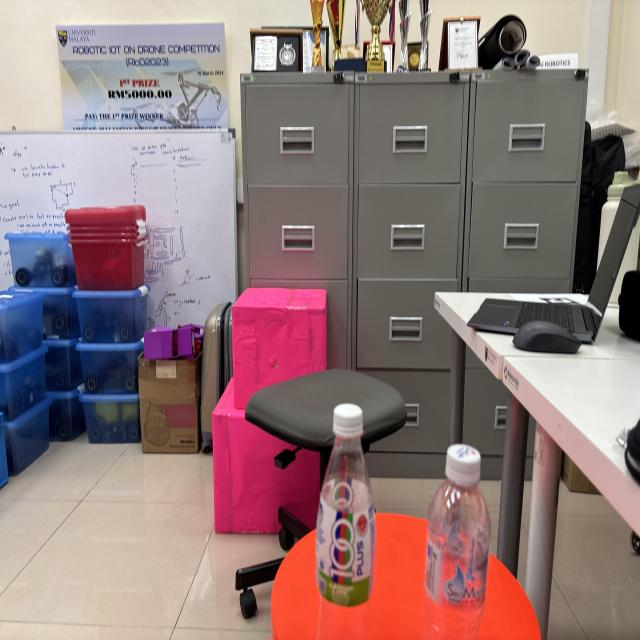plastic_bottle: (313, 397, 383, 640), (418, 439, 490, 640)
